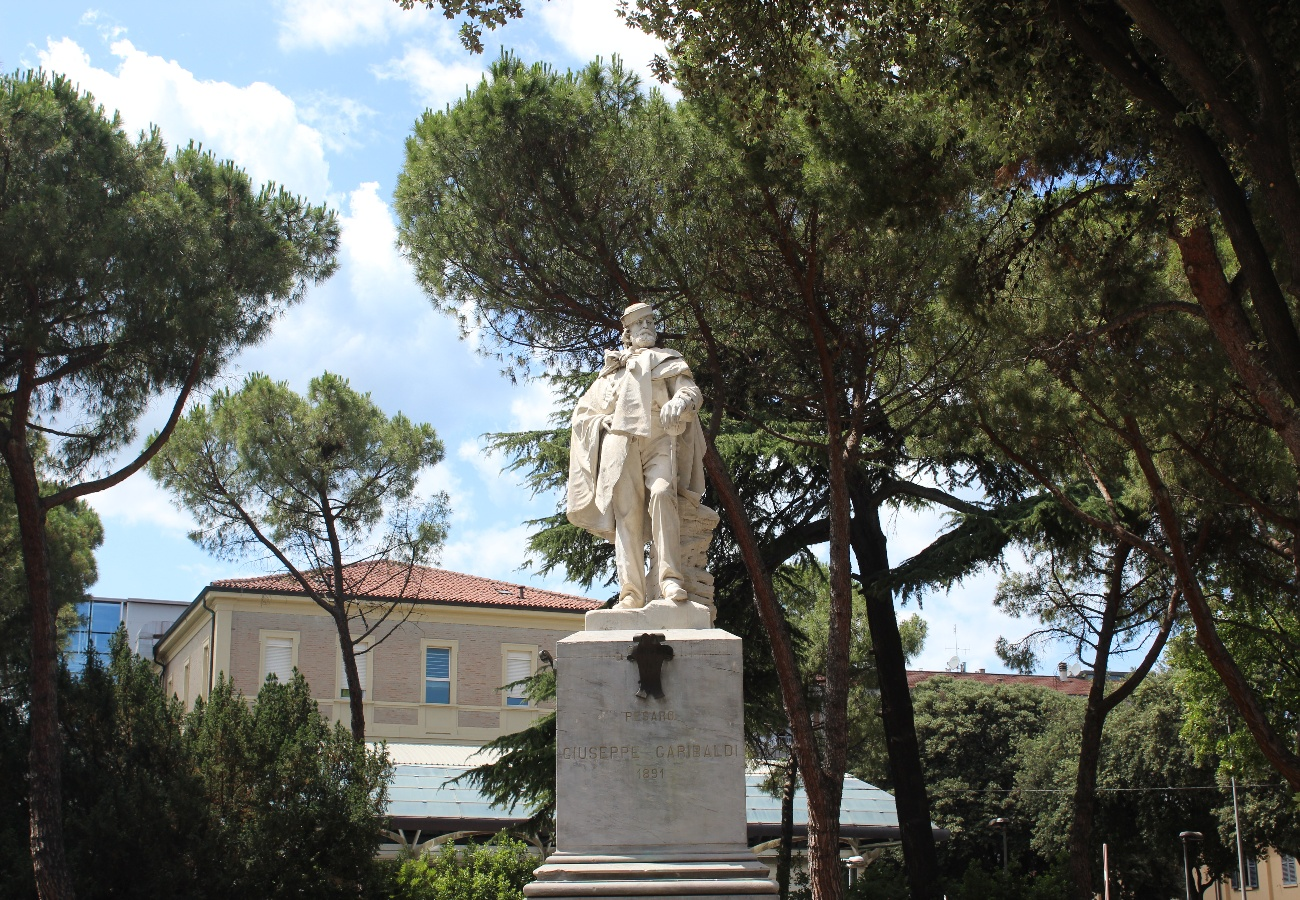Giuseppe Garibaldi: (565, 304, 708, 607)
